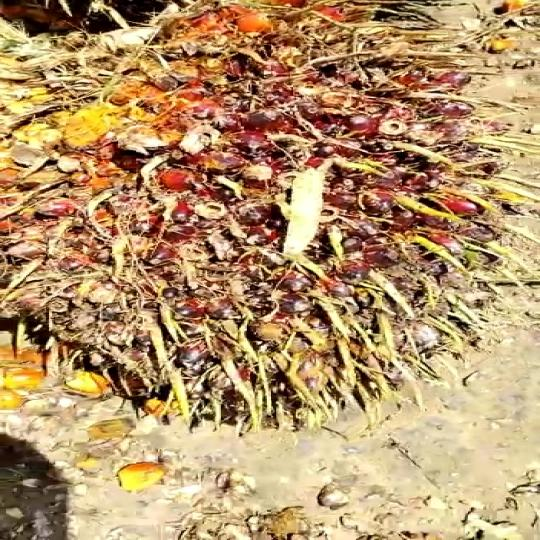masak: (0, 0, 516, 439)
